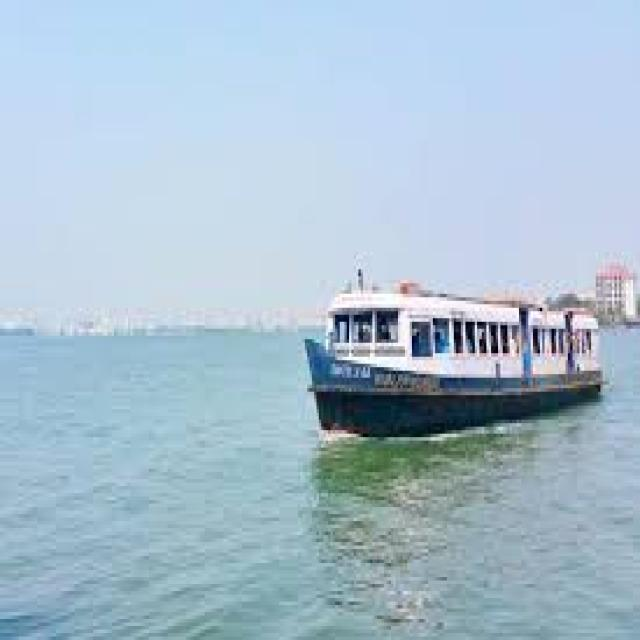houseboat: (305, 269, 617, 414)
